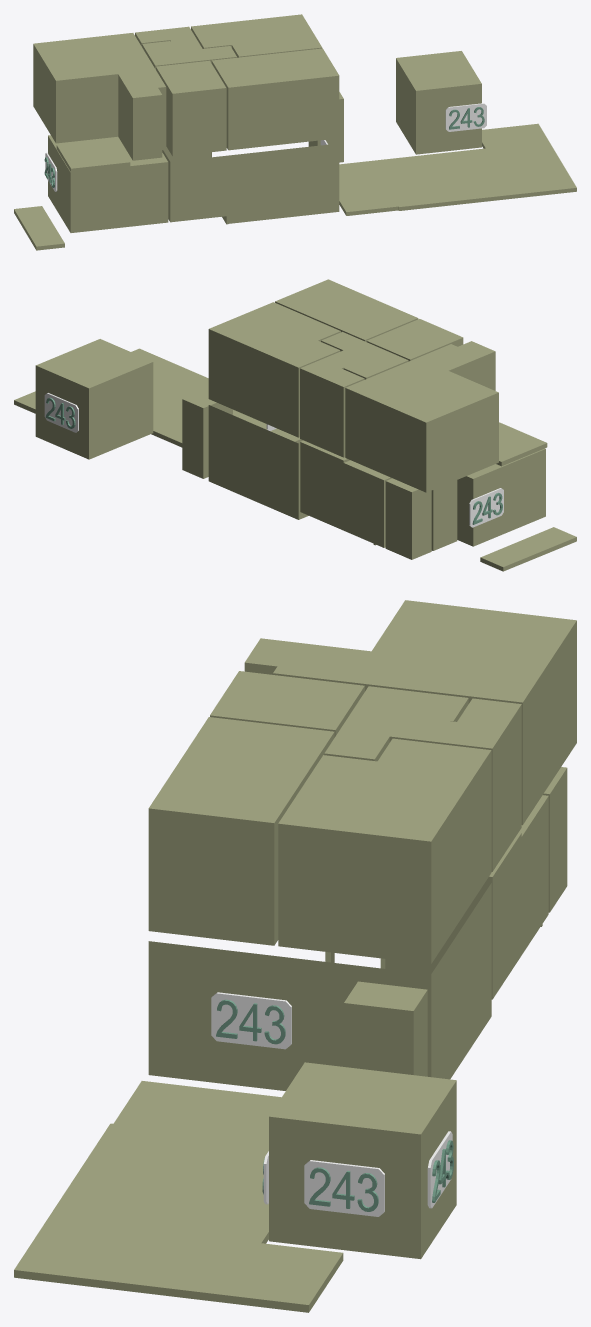
3 views of the same model, one above another, from view 1: azimuth 30°, elevation 25°; view 2: azimuth 150°, elevation 25°; view 3: azimuth 270°, elevation 25° (orthographic). The views are drawn at different scales.
Visible parts, largest first — view 1: g_11, g_12, g_1, g_7, g_0, g_5, g_9, g_6, g_14, g_8, g_13, g_30 (+2 smaller); view 2: g_11, g_6, g_5, g_2, g_1, g_0, g_7, g_10, g_12, g_3, g_4, g_9 (+5 smaller); view 3: g_12, g_6, g_1, g_7, g_5, g_11, g_2, g_4, g_9, g_10, g_8, g_18 (+2 smaller).
Boxes of the visible parts, bbox=[...] form: g_11: bbox=[33, 33, 166, 160]; g_12: bbox=[339, 123, 576, 215]; g_1: bbox=[162, 143, 339, 224]; g_7: bbox=[211, 48, 339, 150]; g_0: bbox=[48, 135, 168, 232]; g_5: bbox=[396, 51, 481, 154]; g_9: bbox=[156, 60, 226, 156]; g_6: bbox=[191, 14, 322, 57]; g_14: bbox=[56, 139, 130, 172]; g_8: bbox=[142, 39, 236, 69]; g_13: bbox=[14, 206, 64, 250]; g_30: bbox=[445, 103, 486, 131]; g_11: bbox=[345, 341, 498, 492]; g_6: bbox=[208, 302, 340, 437]; g_5: bbox=[35, 339, 153, 459]; g_2: bbox=[300, 440, 457, 550]; g_1: bbox=[208, 405, 308, 519]; g_0: bbox=[457, 448, 545, 546]; g_7: bbox=[275, 279, 418, 341]; g_10: bbox=[300, 358, 364, 457]; g_12: bbox=[14, 348, 302, 447]; g_3: bbox=[385, 478, 431, 559]; g_4: bbox=[182, 388, 232, 478]; g_9: bbox=[366, 319, 463, 361]; g_12: bbox=[14, 1081, 343, 1312]; g_6: bbox=[278, 738, 491, 964]; g_1: bbox=[148, 883, 491, 1090]; g_7: bbox=[148, 717, 334, 945]; g_5: bbox=[269, 1062, 456, 1259]; g_11: bbox=[244, 600, 576, 825]; g_2: bbox=[385, 795, 548, 999]; g_4: bbox=[344, 981, 427, 1076]; g_9: bbox=[210, 671, 364, 737]; g_10: bbox=[436, 698, 521, 871]; g_8: bbox=[324, 686, 468, 761]; g_18: bbox=[211, 992, 291, 1049].
Bounding box in the file's own units: 20.03 × 5.35 × 9.92.
